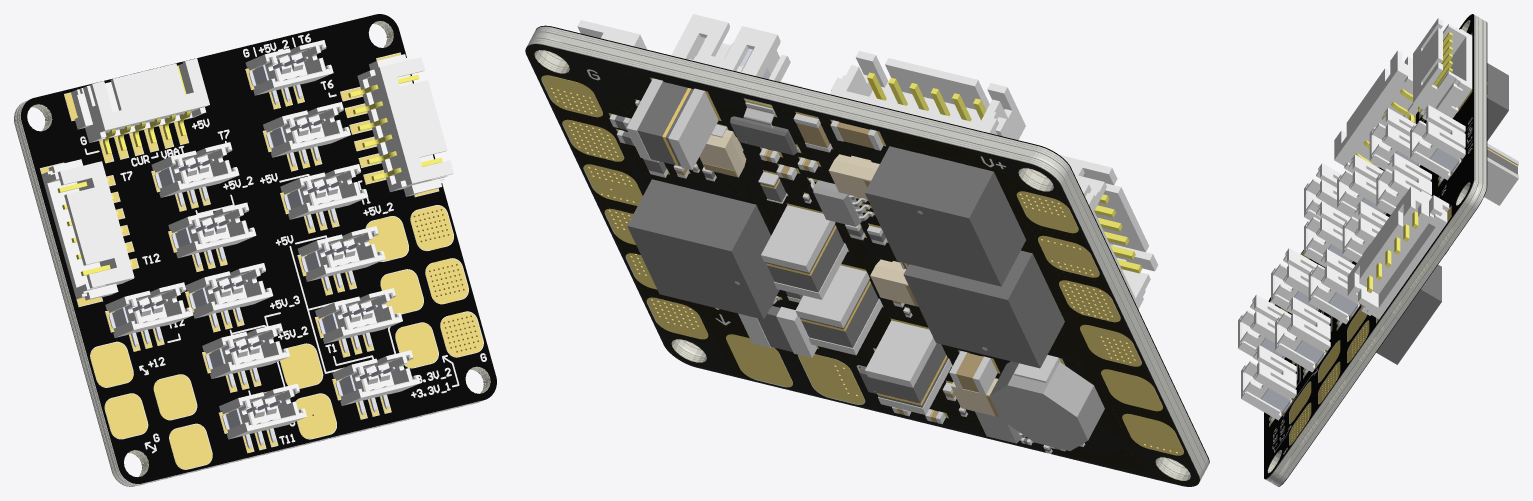
File: power-distribution.glb
3 renders of one model, left to right at view 1: azimuth 30°, elevation 25°; view 2: azimuth 150°, elevation 25°; view 3: azimuth 270°, elevation 25°, orthographic. The views are drawn at different scales.
Parts seen in each view (by area): view 1: Solder_Top, Core, ComponentBody.28, ComponentBody.2, ComponentBody.32, Top, GND, ComponentBody, ComponentBody.30, ComponentBody.9, ComponentBody.11, ComponentBody.17 (+45 smaller); view 2: Solder_Bottom, ComponentBody.36, ComponentBody.85, ComponentBody.151, BAT_OUT, ComponentBody.26, Core.3, ComponentBody.172, GND, ComponentBody.17, ComponentBody.30, ComponentBody.39 (+39 smaller); view 3: Solder_Top, ComponentBody, ComponentBody.26, Core.3, ComponentBody.30, ComponentBody.7, ComponentBody.9, ComponentBody.17, ComponentBody.85, ComponentBody.15, ComponentBody.11, Core (+30 smaller).
Part boxes in pixels (bbox=[...]): Solder_Top: bbox=[21, 14, 496, 483]; Core: bbox=[20, 21, 490, 484]; ComponentBody.28: bbox=[92, 58, 209, 130]; ComponentBody.2: bbox=[379, 57, 453, 183]; ComponentBody.32: bbox=[60, 161, 134, 287]; Top: bbox=[80, 33, 486, 453]; GND: bbox=[72, 92, 479, 459]; ComponentBody: bbox=[357, 54, 452, 196]; ComponentBody.30: bbox=[41, 159, 133, 300]; ComponentBody.9: bbox=[315, 288, 402, 343]; ComponentBody.11: bbox=[263, 102, 350, 157]; ComponentBody.17: bbox=[245, 40, 333, 95]; Solder_Bottom: bbox=[525, 44, 1199, 486]; ComponentBody.36: bbox=[865, 146, 1025, 286]; ComponentBody.85: bbox=[627, 179, 779, 319]; ComponentBody.151: bbox=[903, 250, 1064, 368]; BAT_OUT: bbox=[710, 102, 1183, 455]; ComponentBody.26: bbox=[830, 51, 1025, 140]; Core.3: bbox=[530, 32, 1205, 475]; ComponentBody.172: bbox=[989, 361, 1104, 450]; GND: bbox=[541, 75, 948, 417]; ComponentBody.17: bbox=[671, 14, 790, 81]; ComponentBody.30: bbox=[1059, 155, 1157, 308]; ComponentBody.39: bbox=[761, 205, 848, 299]; Solder_Top: bbox=[1264, 14, 1473, 479]; ComponentBody: bbox=[1347, 186, 1449, 319]; ComponentBody.26: bbox=[1413, 18, 1472, 118]; Core.3: bbox=[1269, 17, 1482, 484]; ComponentBody.30: bbox=[1334, 50, 1418, 173]; ComponentBody.7: bbox=[1241, 345, 1296, 420]; ComponentBody.9: bbox=[1275, 297, 1330, 372]; ComponentBody.17: bbox=[1410, 105, 1465, 180]; ComponentBody.85: bbox=[1376, 264, 1441, 364]; ComponentBody.15: bbox=[1308, 249, 1357, 324]; ComponentBody.11: bbox=[1376, 153, 1431, 214]; Core: bbox=[1265, 15, 1475, 480].
Bounding box in the file's own units: 6.3 × 5.3 × 4.17.
